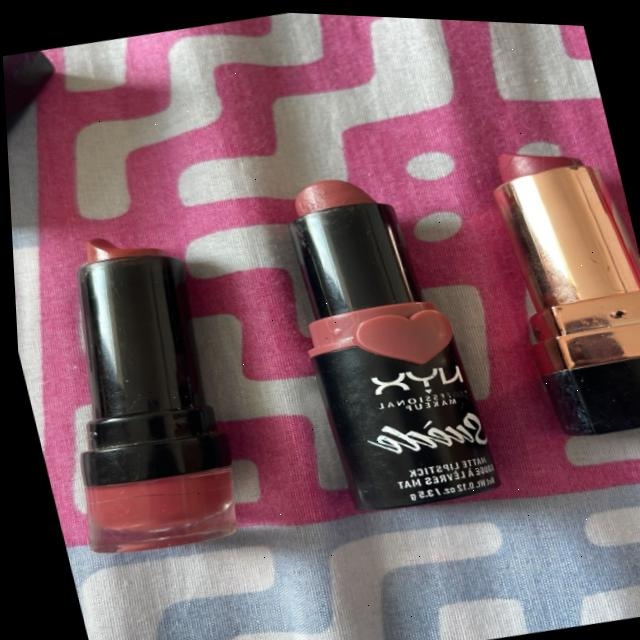lip stick: (227, 131, 517, 542), (8, 190, 272, 588), (432, 110, 640, 458)
